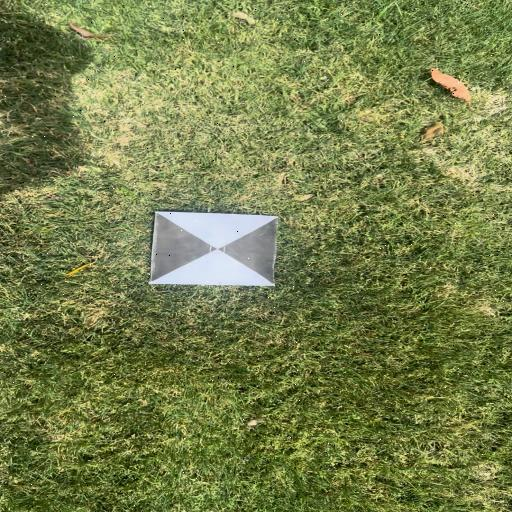target: (153, 211, 277, 285)
